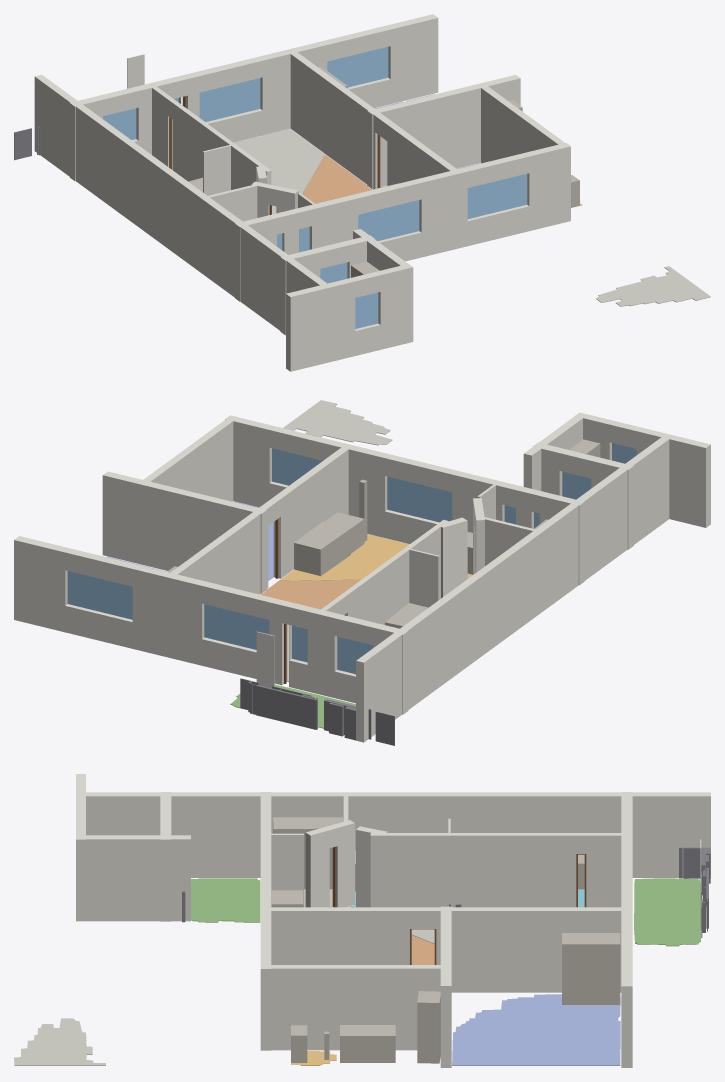
The picture shows the model from 3 angles, top to bottom: view 1: azimuth 30°, elevation 25°; view 2: azimuth 150°, elevation 25°; view 3: azimuth 270°, elevation 25°; orthographic projection. The views are drawn at different scales.
Parts seen in each view (by area): view 1: walls, floor_1_Undefined, floor_11_Undefined, window_5, window_2, floor_2_Living_Room, window_1, window_4, window_3, window_0, railings; view 2: walls, railings, floor_11_Undefined, furniture_7_appliance, floor_3_Kitchen, window_4, window_1, window_5, floor_2_Living_Room, window_2, window_0, furniture_16_sink (+2 smaller); view 3: walls, floor_10_Bed_Room, floor_7_Outdoor, furniture_0_closet, floor_8_Outdoor, floor_11_Undefined, furniture_6_appliance, furniture_1_closet, railings, furniture_2_closet, furniture_10_appliance, floor_2_Living_Room (+1 smaller).
Part boxes in pixels (box(x1,y1,x2,y2)): walls: box(34, 14, 570, 371); floor_1_Undefined: box(234, 129, 325, 214); floor_11_Undefined: box(596, 266, 710, 306); window_5: box(199, 78, 260, 121); window_2: box(467, 174, 527, 218); floor_2_Living_Room: box(302, 154, 373, 203); window_1: box(358, 200, 419, 240); window_4: box(327, 47, 388, 87); window_3: box(355, 292, 378, 328); window_0: box(103, 108, 136, 139); railings: box(14, 127, 40, 160); walls: box(14, 412, 710, 742); railings: box(240, 678, 394, 745); floor_11_Undefined: box(283, 400, 392, 445); furniture_7_appliance: box(294, 521, 350, 576); floor_3_Kitchen: box(279, 534, 472, 580); window_4: box(67, 571, 132, 619); window_1: box(387, 476, 452, 522); window_5: box(204, 604, 269, 649); floor_2_Living_Room: box(260, 579, 360, 609); window_2: box(272, 448, 322, 485); window_0: box(337, 636, 372, 674); furniture_16_sink: box(325, 512, 364, 553); walls: box(76, 774, 710, 1067); floor_10_Bed_Room: box(452, 994, 620, 1065); floor_7_Outdoor: box(634, 878, 700, 946); furniture_0_closet: box(562, 933, 620, 1004); floor_8_Outdoor: box(191, 878, 260, 922); floor_11_Undefined: box(14, 1018, 105, 1065); furniture_6_appliance: box(340, 1025, 395, 1062); furniture_1_closet: box(417, 991, 440, 1063); railings: box(182, 847, 710, 937); furniture_2_closet: box(273, 817, 343, 889); furniture_10_appliance: box(291, 1025, 307, 1062); floor_2_Living_Room: box(411, 935, 434, 964).
Size of the model in its own units: 15.02 by 2.72 by 20.86.
